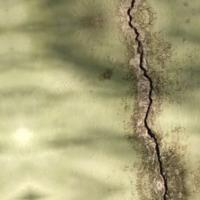crack: (107, 0, 189, 199)
